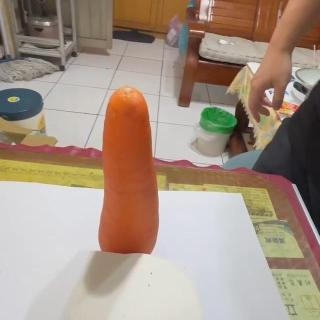carrot: (99, 85, 160, 254)
